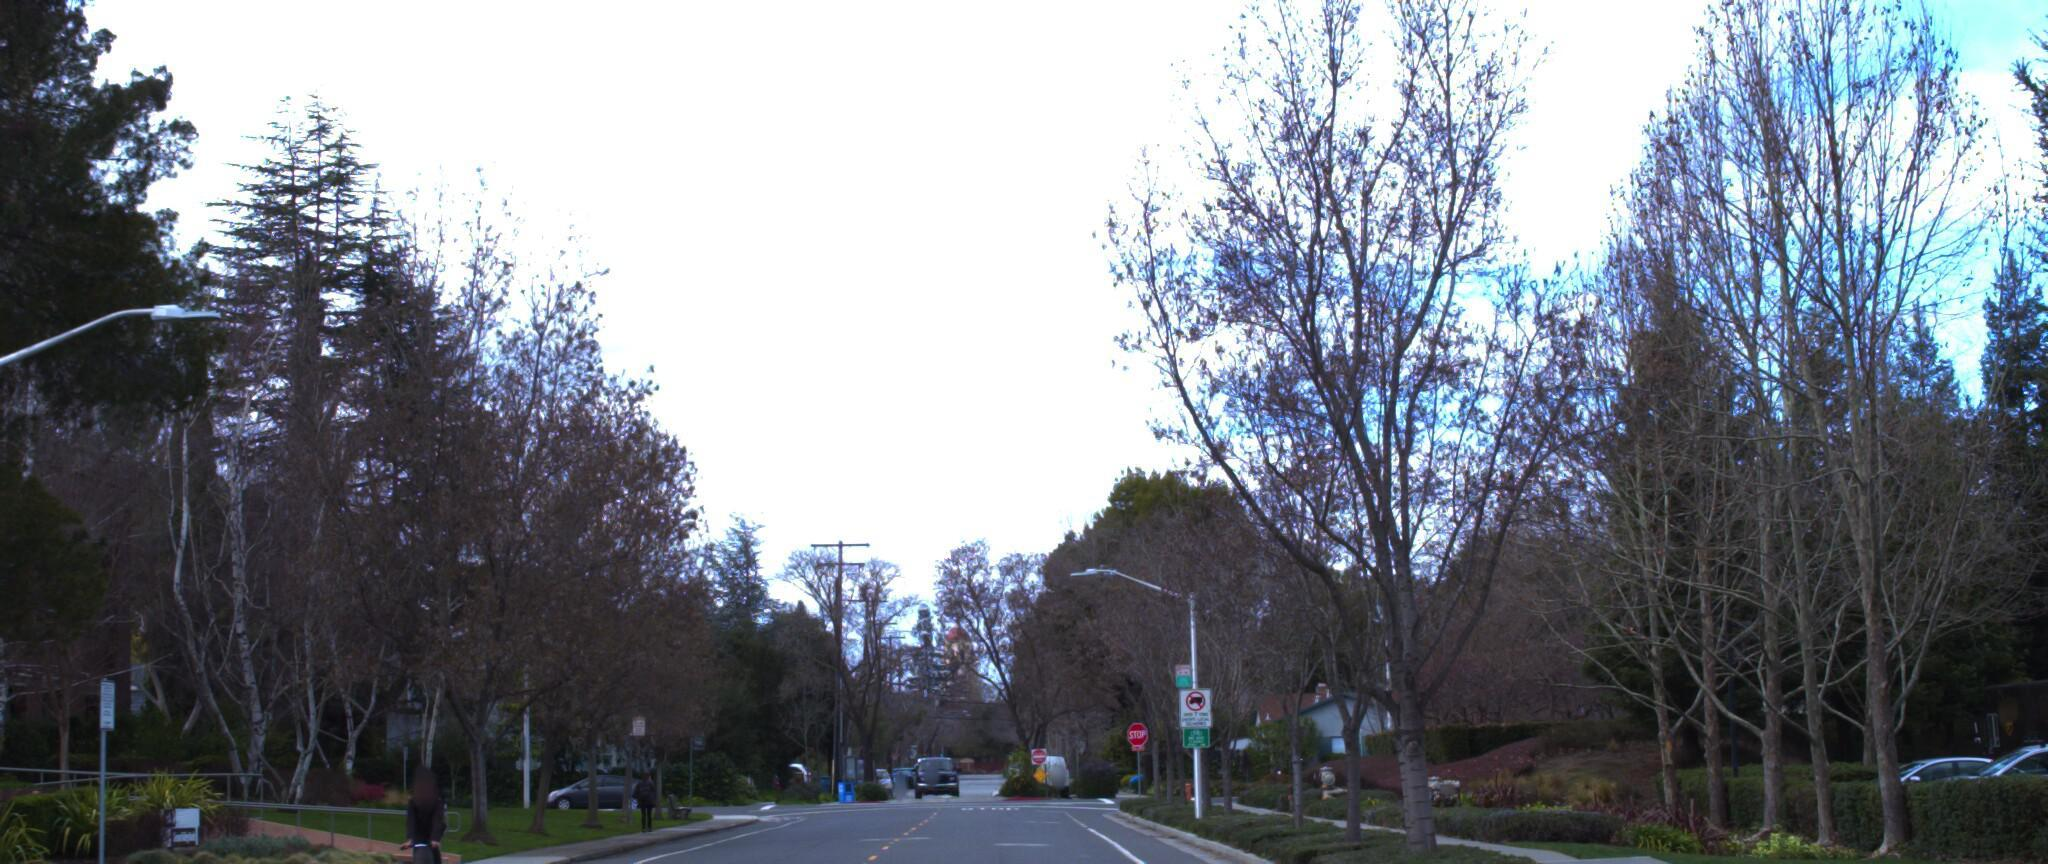bicycle: (381, 749, 481, 864)
